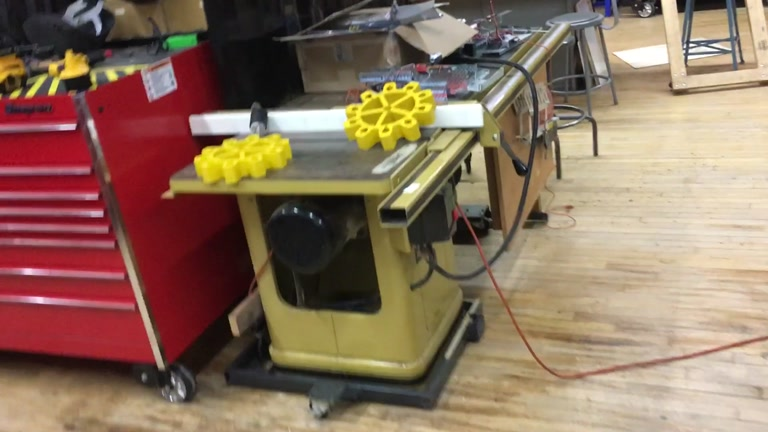gear: (343, 79, 434, 151), (193, 132, 293, 185)
